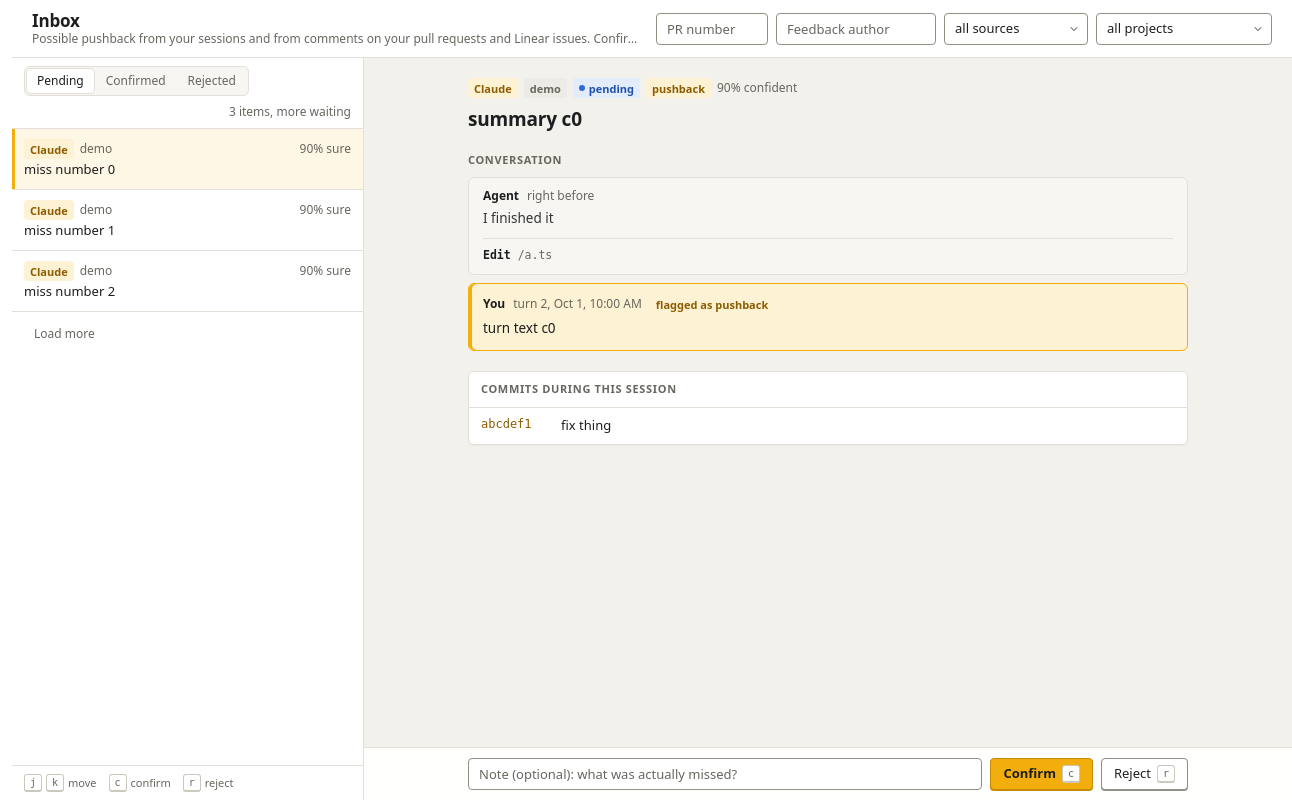
Test case: a long Inbox comes a page at a time: it says more are waiting, and Load more appends the next page
Expected: the text "miss number 0" is shown, [24,160,115,178]
Expected: the text "3 items, more waiting" is shown, [229,104,351,120]
Click the button "Load more": x=64, y=334 [24,320,105,348]
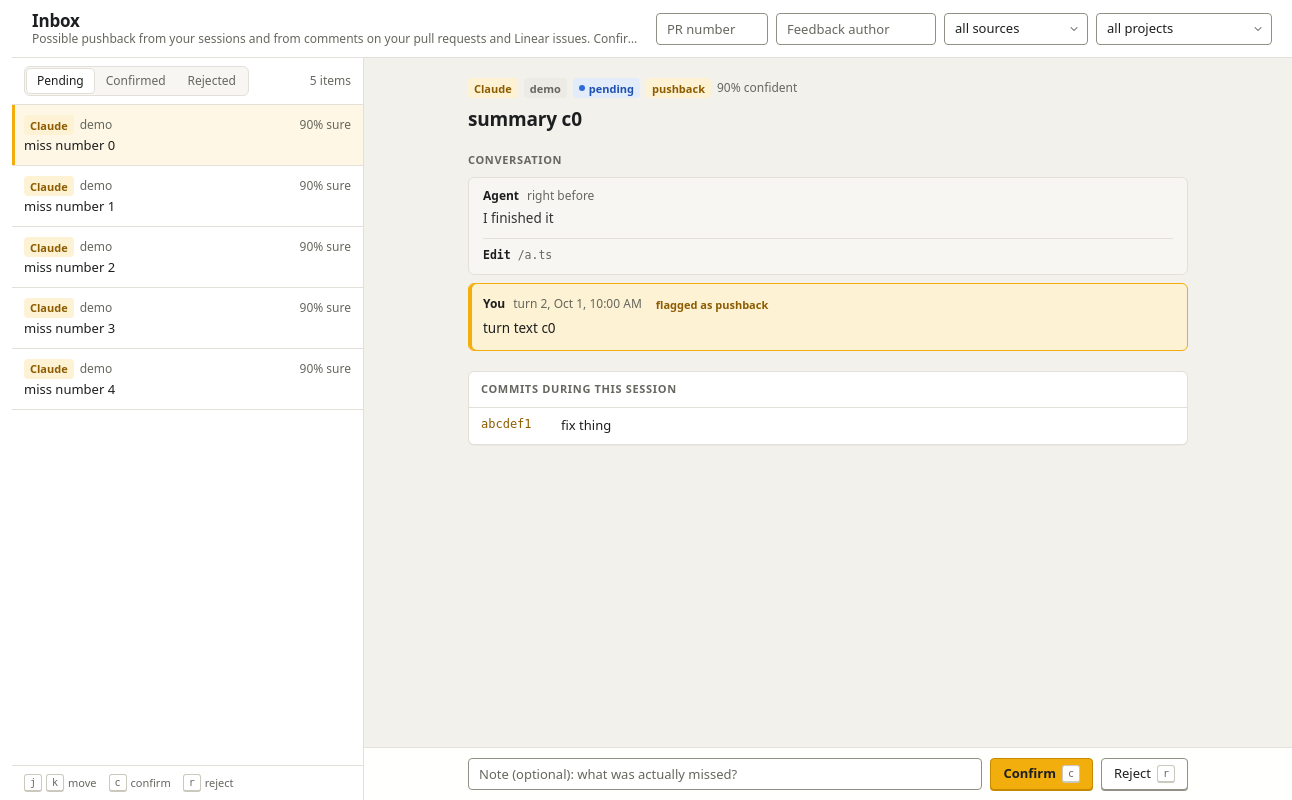
Expected: the text "miss number 4" is shown, [24,380,115,398]
Expected: the text "5 items" is shown, [310,73,351,89]
Expected: the button "Load more" is gone
